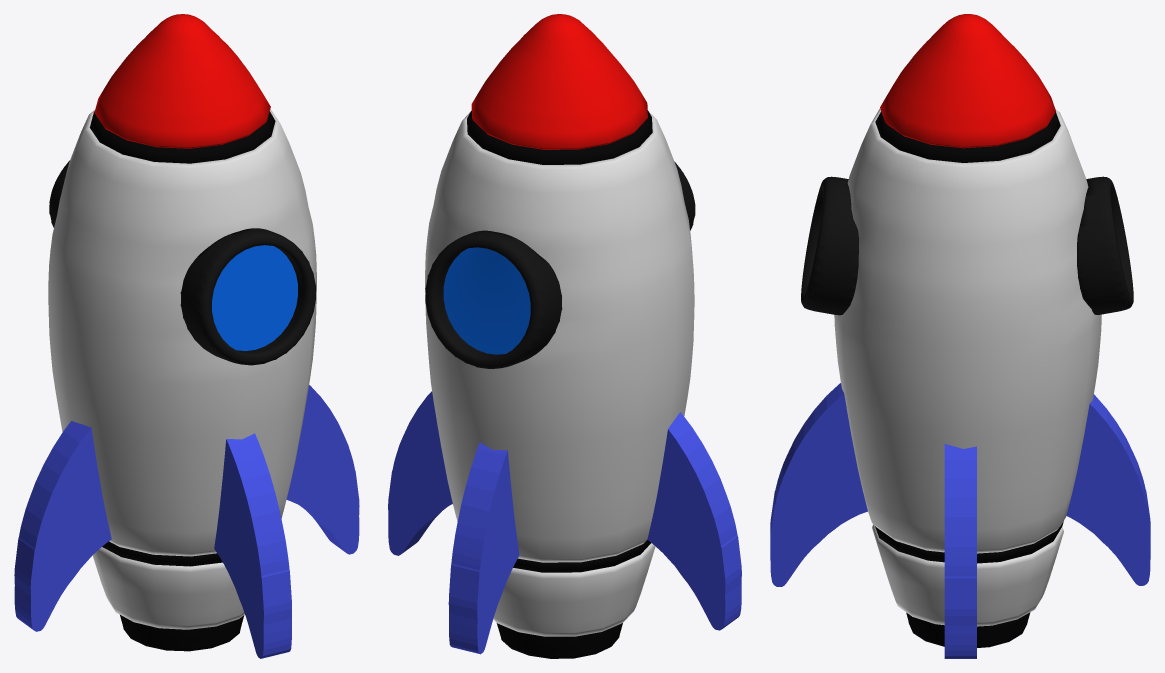
File: Rocket1.fbx
The picture shows the model from 3 angles, left to right: view 1: azimuth 30°, elevation 25°; view 2: azimuth 150°, elevation 25°; view 3: azimuth 270°, elevation 25°; orthographic projection.
Parts seen in each view (by area): view 1: Rocket1; view 2: Rocket1; view 3: Rocket1.
Boxes of the visible parts, x1,y1,x2,y2 form: Rocket1: [14, 14, 359, 658]; Rocket1: [388, 14, 741, 658]; Rocket1: [770, 14, 1150, 658].
Size of the model in its own units: 296 by 521 by 296.
